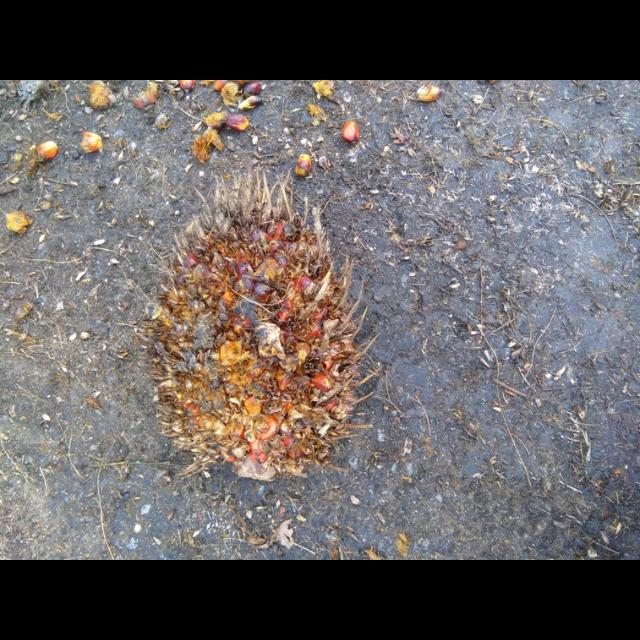Overripe: (150, 171, 378, 497)
